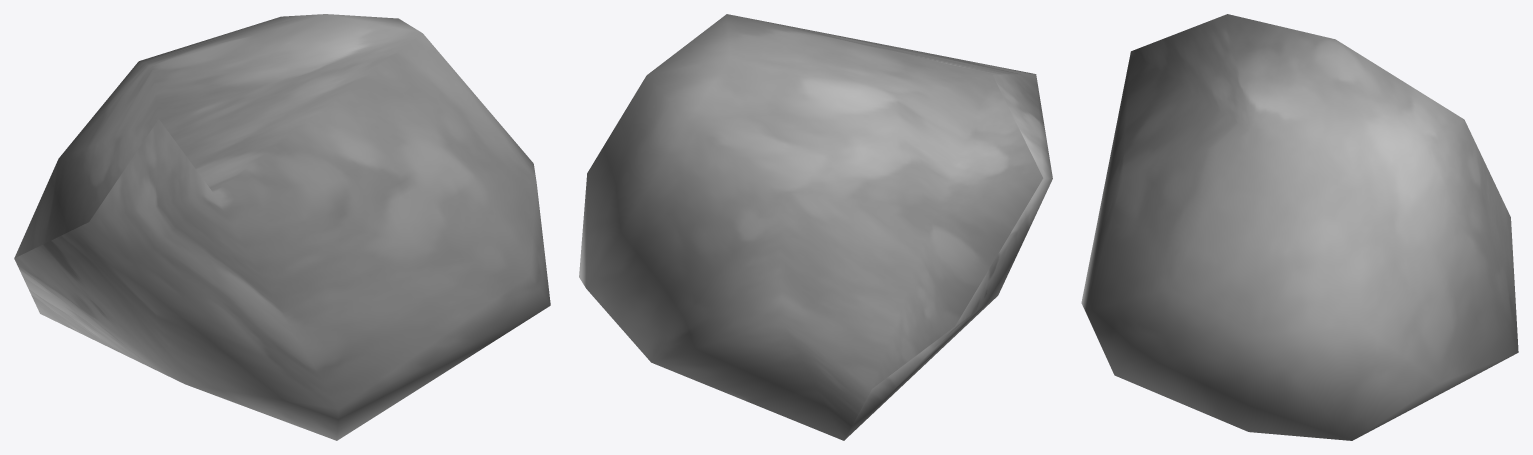
File: SM_Pebble_03a.fbx
3 renders of one model, left to right at view 1: azimuth 30°, elevation 25°; view 2: azimuth 150°, elevation 25°; view 3: azimuth 270°, elevation 25°, orthographic. The views are drawn at different scales.
Parts seen in each view (by area): view 1: SM_Pebble_03a_LOD0; view 2: SM_Pebble_03a_LOD0; view 3: SM_Pebble_03a_LOD0.
Part boxes in pixels (bbox=[...]): SM_Pebble_03a_LOD0: bbox=[14, 14, 550, 440]; SM_Pebble_03a_LOD0: bbox=[579, 14, 1052, 440]; SM_Pebble_03a_LOD0: bbox=[1081, 14, 1518, 440].
Size of the model in its own units: 22.19 by 19.76 by 15.33.
